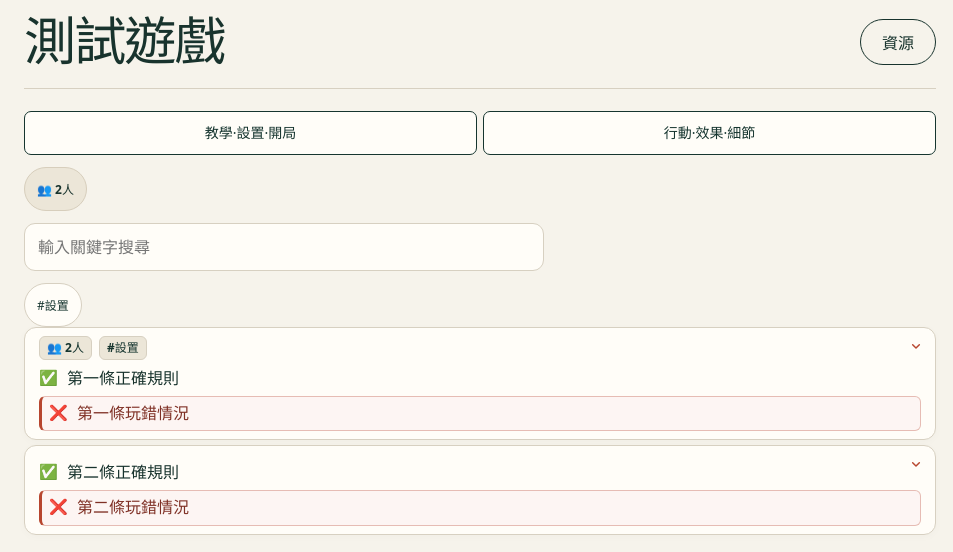
Scenario: GamePage compact rule view › mirrors filters into a replaceable URL and keeps the shared rule hash
Click the button with aria-label "教學、設置、開局".
click(250, 133)  # box [24,111,477,155]
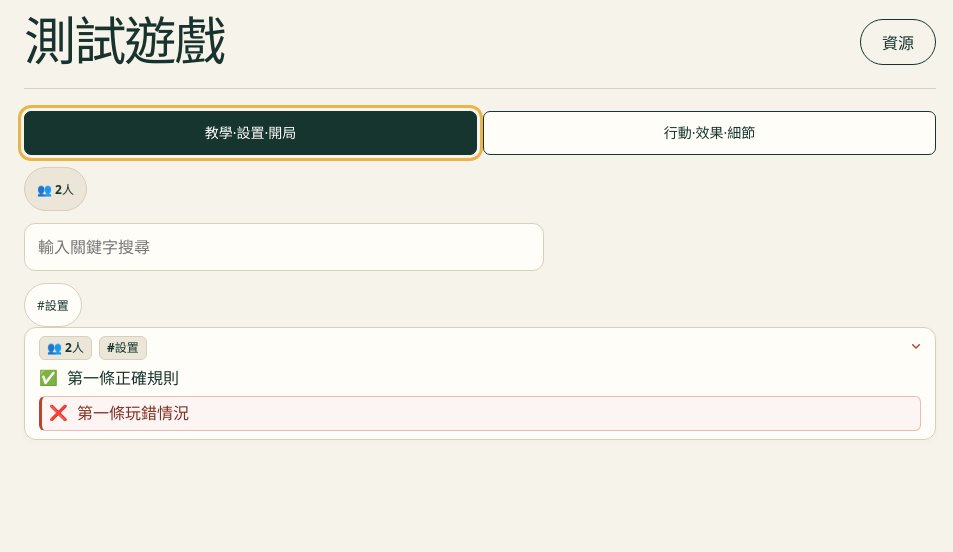
Click the button "👥 2人".
click(56, 189)  # box [24,167,87,211]
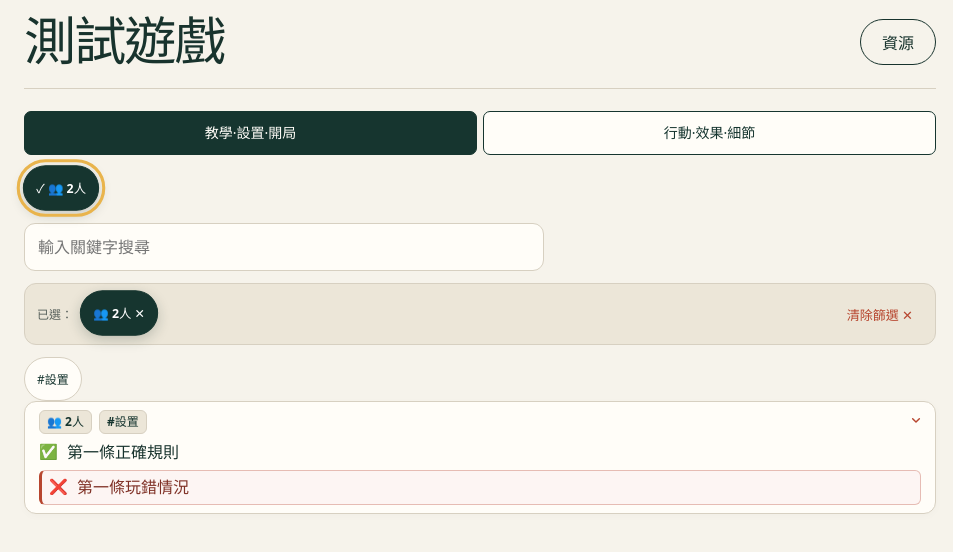
Click the button "#設置".
click(53, 379)  # box [24,357,82,401]
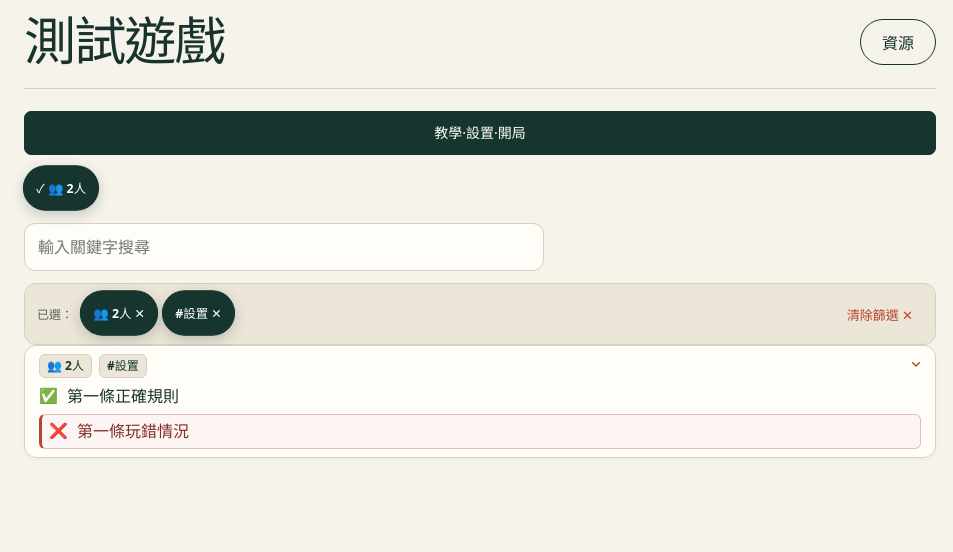
Type "第一" into the search field labelled "關鍵字搜尋".
click(284, 247); type("第一")  # box [24,223,544,271]
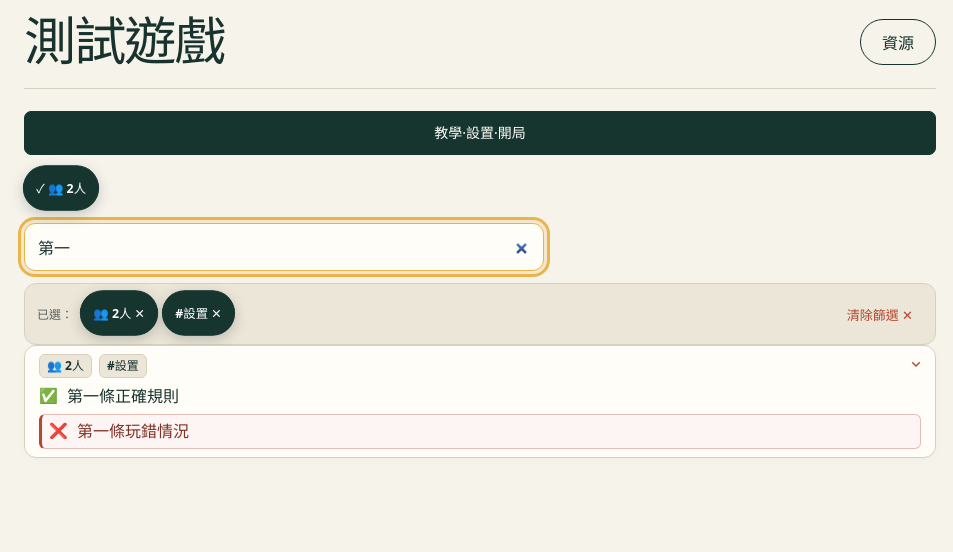
Click the button "清除篩選 ✕".
click(880, 314)  # box [837,292,923,336]
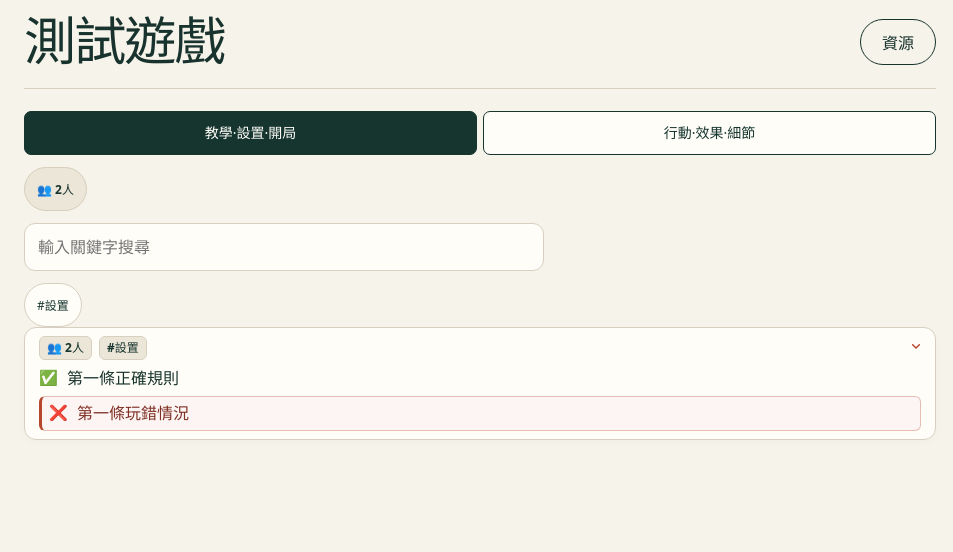
Now the search field labelled "關鍵字搜尋" is empty, box [24,223,544,271]
